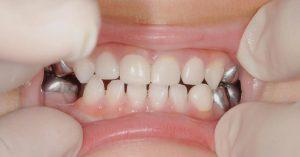crown: (41, 68, 78, 102), (220, 60, 245, 85), (210, 84, 232, 111), (222, 80, 244, 107), (49, 58, 74, 79)
